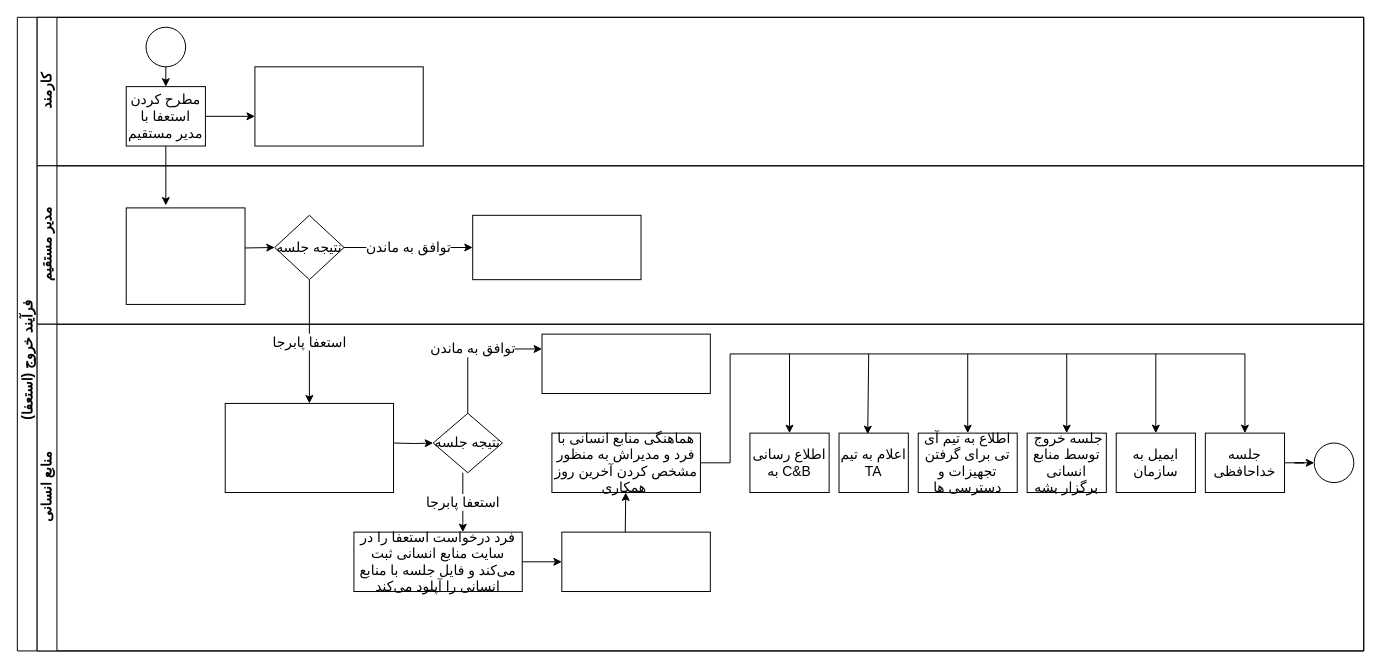
This 1381x668 diagram has some shape labels left out. The shapes that lost their labels are listed below. From the top down, each one's centre as x and y in pixels, then its label:
point 165,46: شروع
point 338,106: فرد می‌تواند درخواست استعفا را با منابع انسانی هم مطرح کند (HRBP)
point 185,255: برگزاری جلسه فرد با مدیر مستقیم اش و تهیه لیستی از مشکلات و راه حل‌ها
point 556,247: توافق داکیومنت شده توسط مدیر با شخص و منابع انسانی به اشتراک گذاشته می‌شود
point 625,363: توافق داکیومنت شده توسط منابع انسانی با شخص و مدیر اش به اشتراک گذاشته می‌شود
point 309,447: برگزاری جلسه منابع انسانی با فرد و تهیه لیستی از مشکلات و راه حل ها
point 1333,462: پایان
point 635,561: ایمیل درخواست استعفا برای مدیر شخص و منابع انسانی ارسال می‌شود
